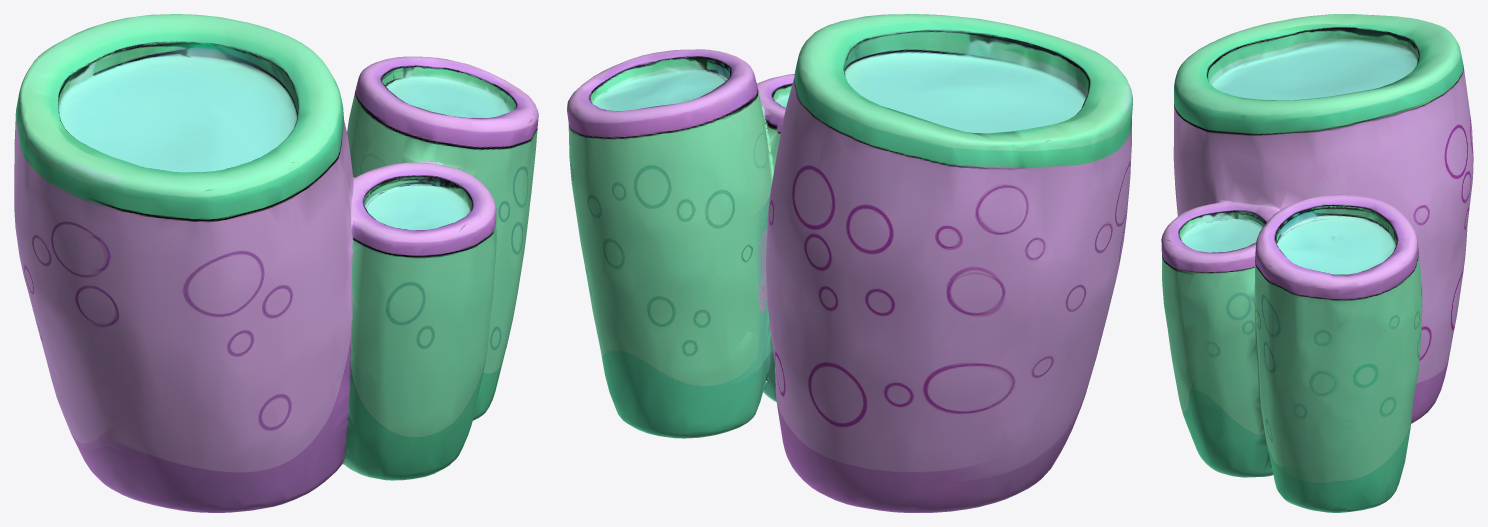
The model's file is static.glb.
3 views of the same model, side by side, from view 1: azimuth 30°, elevation 25°; view 2: azimuth 150°, elevation 25°; view 3: azimuth 270°, elevation 25° (orthographic). The views are drawn at different scales.
Visible parts, largest first — view 1: Mesh_0; view 2: Mesh_0; view 3: Mesh_0.
Part boxes in pixels (x1=…): Mesh_0: x1=14, y1=14, x2=538, y2=512; Mesh_0: x1=567, y1=14, x2=1132, y2=512; Mesh_0: x1=1161, y1=14, x2=1473, y2=512.
Size of the model in its own units: 1.9 by 1.45 by 1.2.
1 material, 1 textured.
